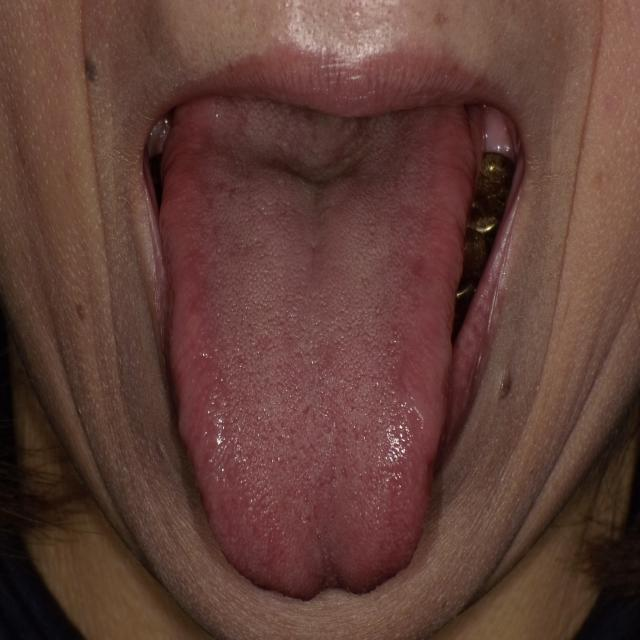baitaishe: (159, 98, 485, 602)
shenquao: (239, 113, 381, 203)
xinfeiao: (261, 525, 383, 603)
